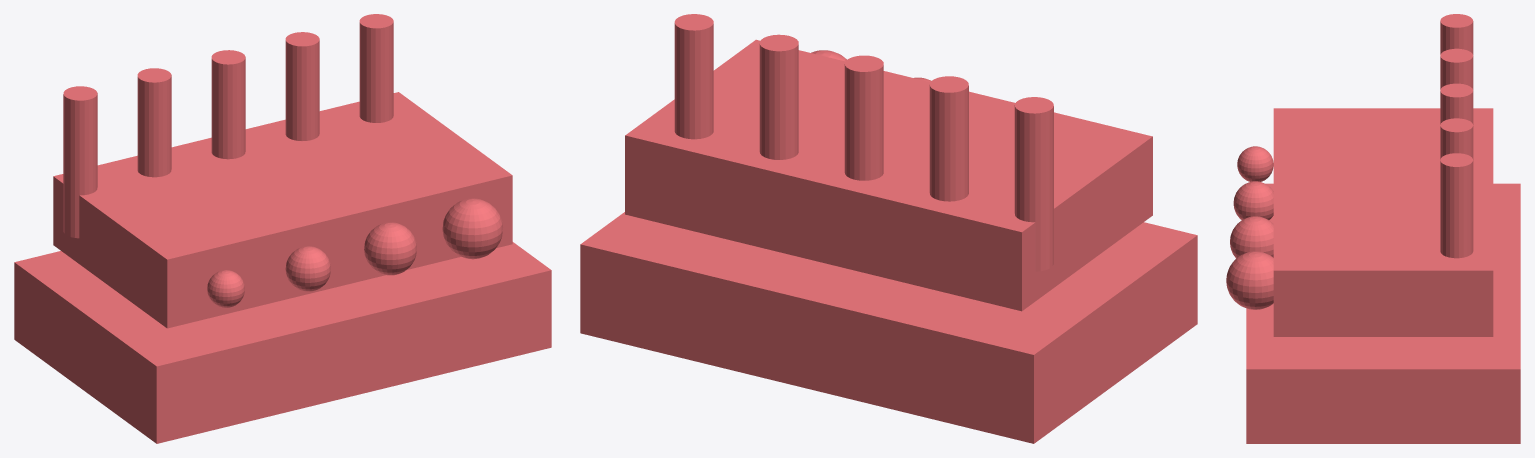
3 renders of one model, left to right at view 1: azimuth 30°, elevation 25°; view 2: azimuth 150°, elevation 25°; view 3: azimuth 270°, elevation 25°, orthographic. The views are drawn at different scales.
Parts seen in each view (by area): view 1: cis_heavy_foundry_sketchfab_001; view 2: cis_heavy_foundry_sketchfab_001; view 3: cis_heavy_foundry_sketchfab_001.
Boxes of the visible parts, box(x1,y1,x2,y2) form: cis_heavy_foundry_sketchfab_001: box(14, 14, 551, 443); cis_heavy_foundry_sketchfab_001: box(580, 14, 1197, 443); cis_heavy_foundry_sketchfab_001: box(1226, 14, 1520, 443).
Bounding box in the file's own units: 2.4 × 1.53 × 1.61.
